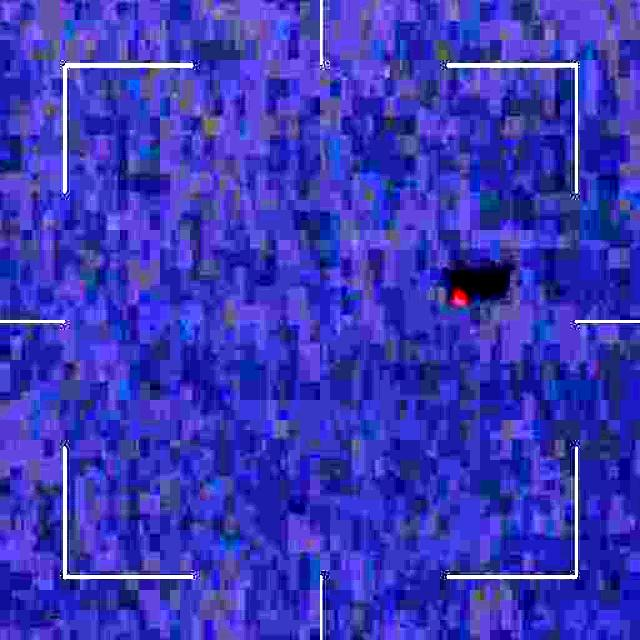bird: (441, 269, 475, 315)
